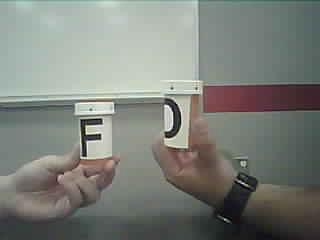Bottle D: (158, 73, 210, 152)
Bottle F: (70, 93, 125, 171)
